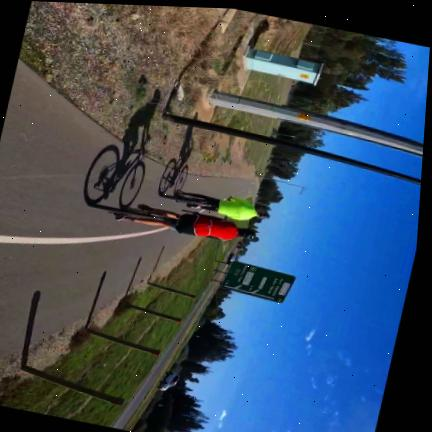Bike_Lane: (0, 61, 193, 360), (133, 159, 180, 211), (185, 176, 255, 197)
